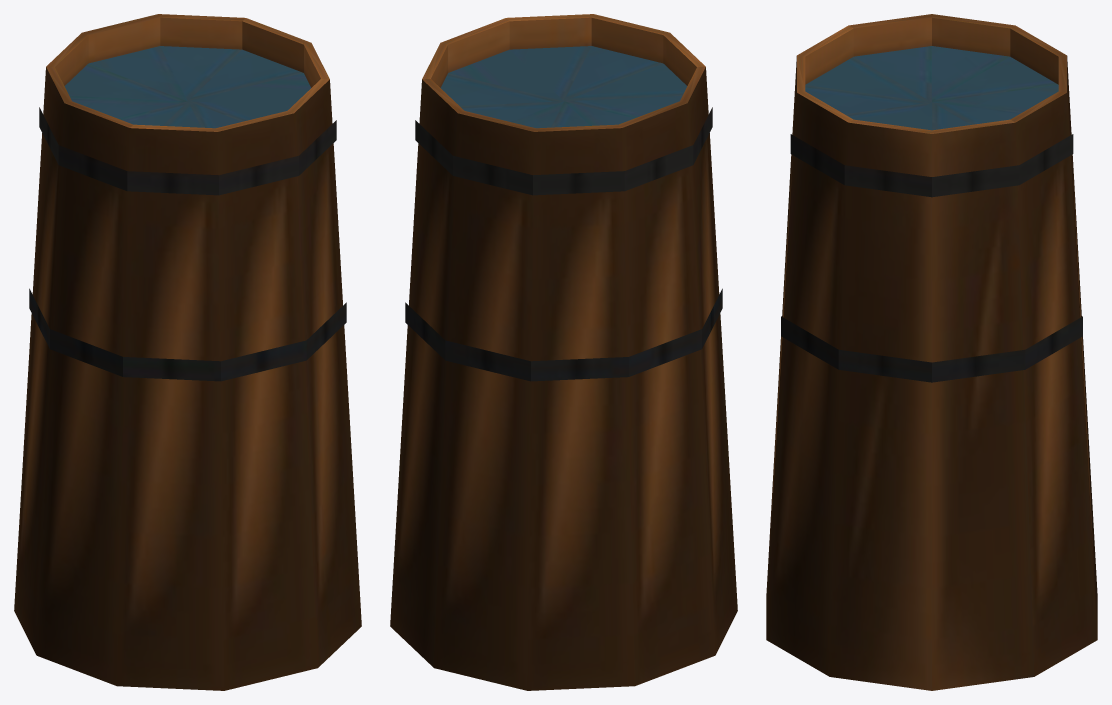
File: quench_barrel.glb
3 views of the same model, side by side, from view 1: azimuth 30°, elevation 25°; view 2: azimuth 150°, elevation 25°; view 3: azimuth 270°, elevation 25° (orthographic).
Visible parts, largest first — view 1: props_0_0; view 2: props_0_0; view 3: props_0_0.
Part boxes in pixels (left/top/right/bottom): props_0_0: left=14, top=14, right=361, bottom=690; props_0_0: left=390, top=14, right=737, bottom=690; props_0_0: left=766, top=14, right=1097, bottom=690.
Bounding box in the file's own units: 0.784 × 1.35 × 0.7456.
2 materials, 2 textured.
